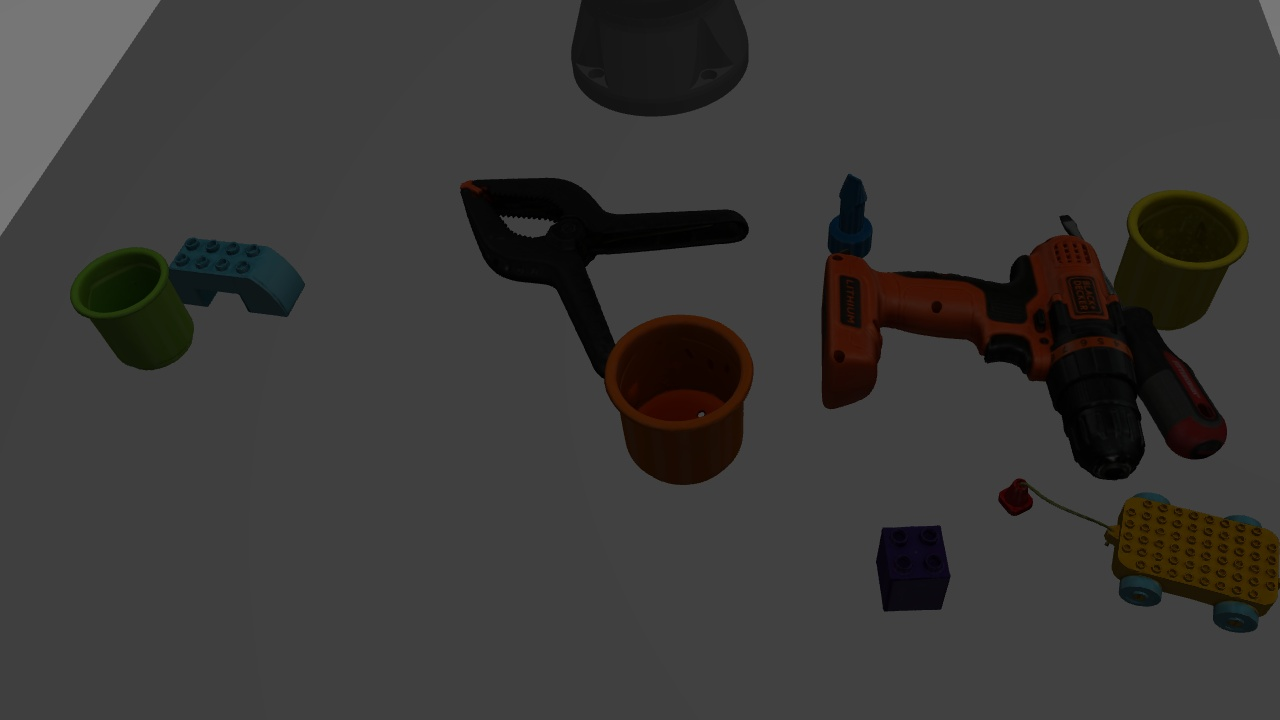power_drill: (815, 233, 1146, 491)
